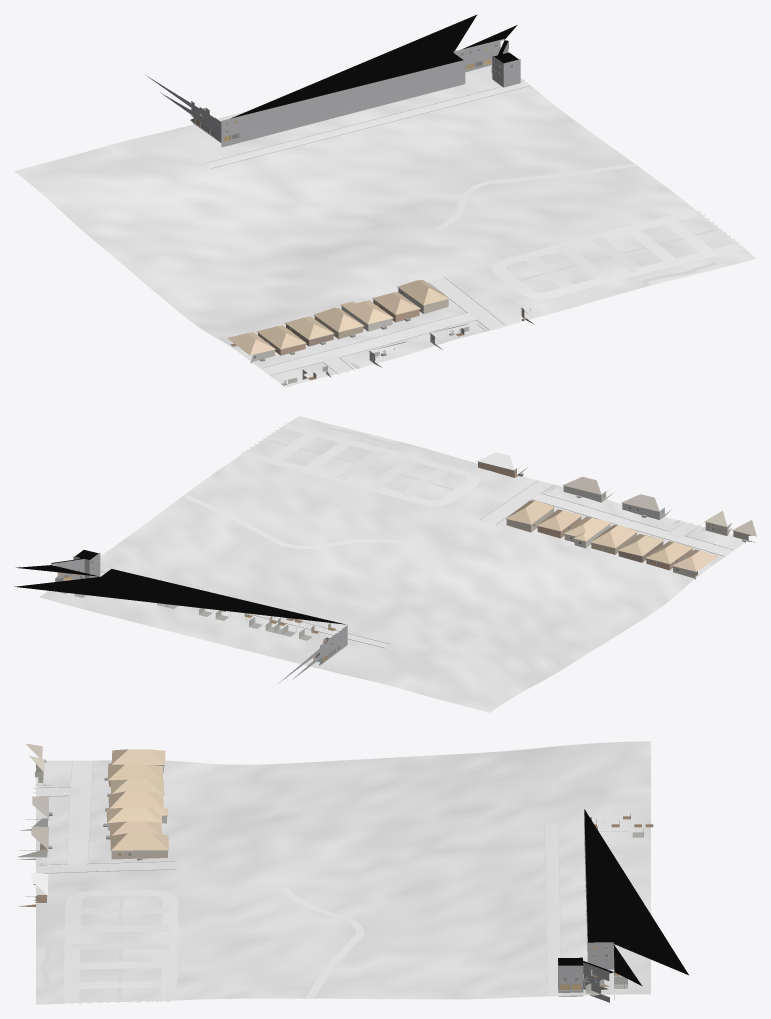
The picture shows the model from 3 angles, top to bottom: view 1: azimuth 30°, elevation 25°; view 2: azimuth 150°, elevation 25°; view 3: azimuth 270°, elevation 25°; orthographic projection. The views are drawn at different scales.
Visible parts, largest first — view 1: ground, concrete, wall_com, roof_flat, roof, curb, wall, wall_stucco, detail, walk; view 2: ground, concrete, roof, roof_flat, wall_com, wall, wall_stucco, room, detail, curb, walk; view 3: ground, concrete, roof_flat, roof, wall_com, curb, walk, wall_stucco, room, detail.
Boxes of the visible parts, left/top/right/bottom form: ground: left=14, top=65, right=756, bottom=387; concrete: left=205, top=81, right=746, bottom=375; wall_com: left=146, top=39, right=520, bottom=147; roof_flat: left=230, top=14, right=518, bottom=118; roof: left=227, top=280, right=468, bottom=355; curb: left=205, top=80, right=530, bottom=375; wall: left=258, top=299, right=534, bottom=355; wall_stucco: left=250, top=288, right=448, bottom=379; detail: left=191, top=44, right=530, bottom=386; walk: left=324, top=229, right=717, bottom=375; ground: left=40, top=416, right=748, bottom=712; concrete: left=99, top=423, right=733, bottom=647; roof: left=477, top=452, right=756, bottom=571; roof_flat: left=14, top=550, right=345, bottom=624; wall_com: left=51, top=552, right=347, bottom=683; wall: left=478, top=462, right=755, bottom=570; wall_stucco: left=506, top=503, right=731, bottom=579; room: left=56, top=547, right=697, bottom=662; detail: left=55, top=461, right=747, bottom=665; curb: left=99, top=481, right=733, bottom=648; walk: left=265, top=427, right=705, bottom=532; ground: left=36, top=741, right=650, bottom=1004; concrete: left=32, top=760, right=561, bottom=1004; roof_flat: left=558, top=809, right=688, bottom=985; roof: left=26, top=743, right=168, bottom=895; wall_com: left=558, top=816, right=614, bottom=1002; curb: left=33, top=760, right=561, bottom=995; walk: left=35, top=783, right=123, bottom=1000; wall_stucco: left=19, top=765, right=167, bottom=859; room: left=36, top=767, right=653, bottom=995; detail: left=19, top=760, right=650, bottom=993.
Bounding box in the file's own units: 271 × 25.05 × 302.
